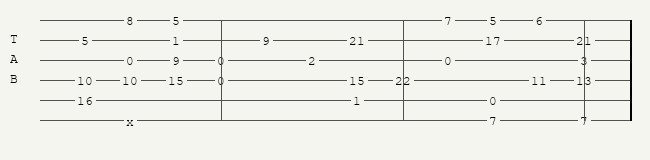0: (126, 54, 138, 66), (217, 74, 229, 86), (217, 54, 229, 66), (444, 54, 456, 66), (489, 94, 501, 106)
1: (172, 34, 184, 46), (353, 94, 365, 106)
10: (77, 74, 97, 86), (122, 74, 142, 86)
11: (531, 74, 551, 86)
13: (576, 74, 596, 86)
15: (168, 74, 188, 86), (349, 74, 369, 86)
16: (77, 94, 97, 106)
17: (485, 34, 505, 46)
2: (308, 54, 320, 66)
21: (349, 34, 369, 46), (576, 34, 596, 46)
22: (395, 74, 415, 86)
3: (580, 54, 592, 66)
5: (81, 34, 93, 46), (172, 14, 184, 26), (489, 14, 501, 26)
6: (535, 14, 547, 26)
7: (444, 14, 456, 26), (489, 114, 501, 126), (580, 114, 592, 126)
8: (126, 14, 138, 26)
9: (172, 54, 184, 66), (262, 34, 274, 46)
x: (126, 115, 138, 125)
